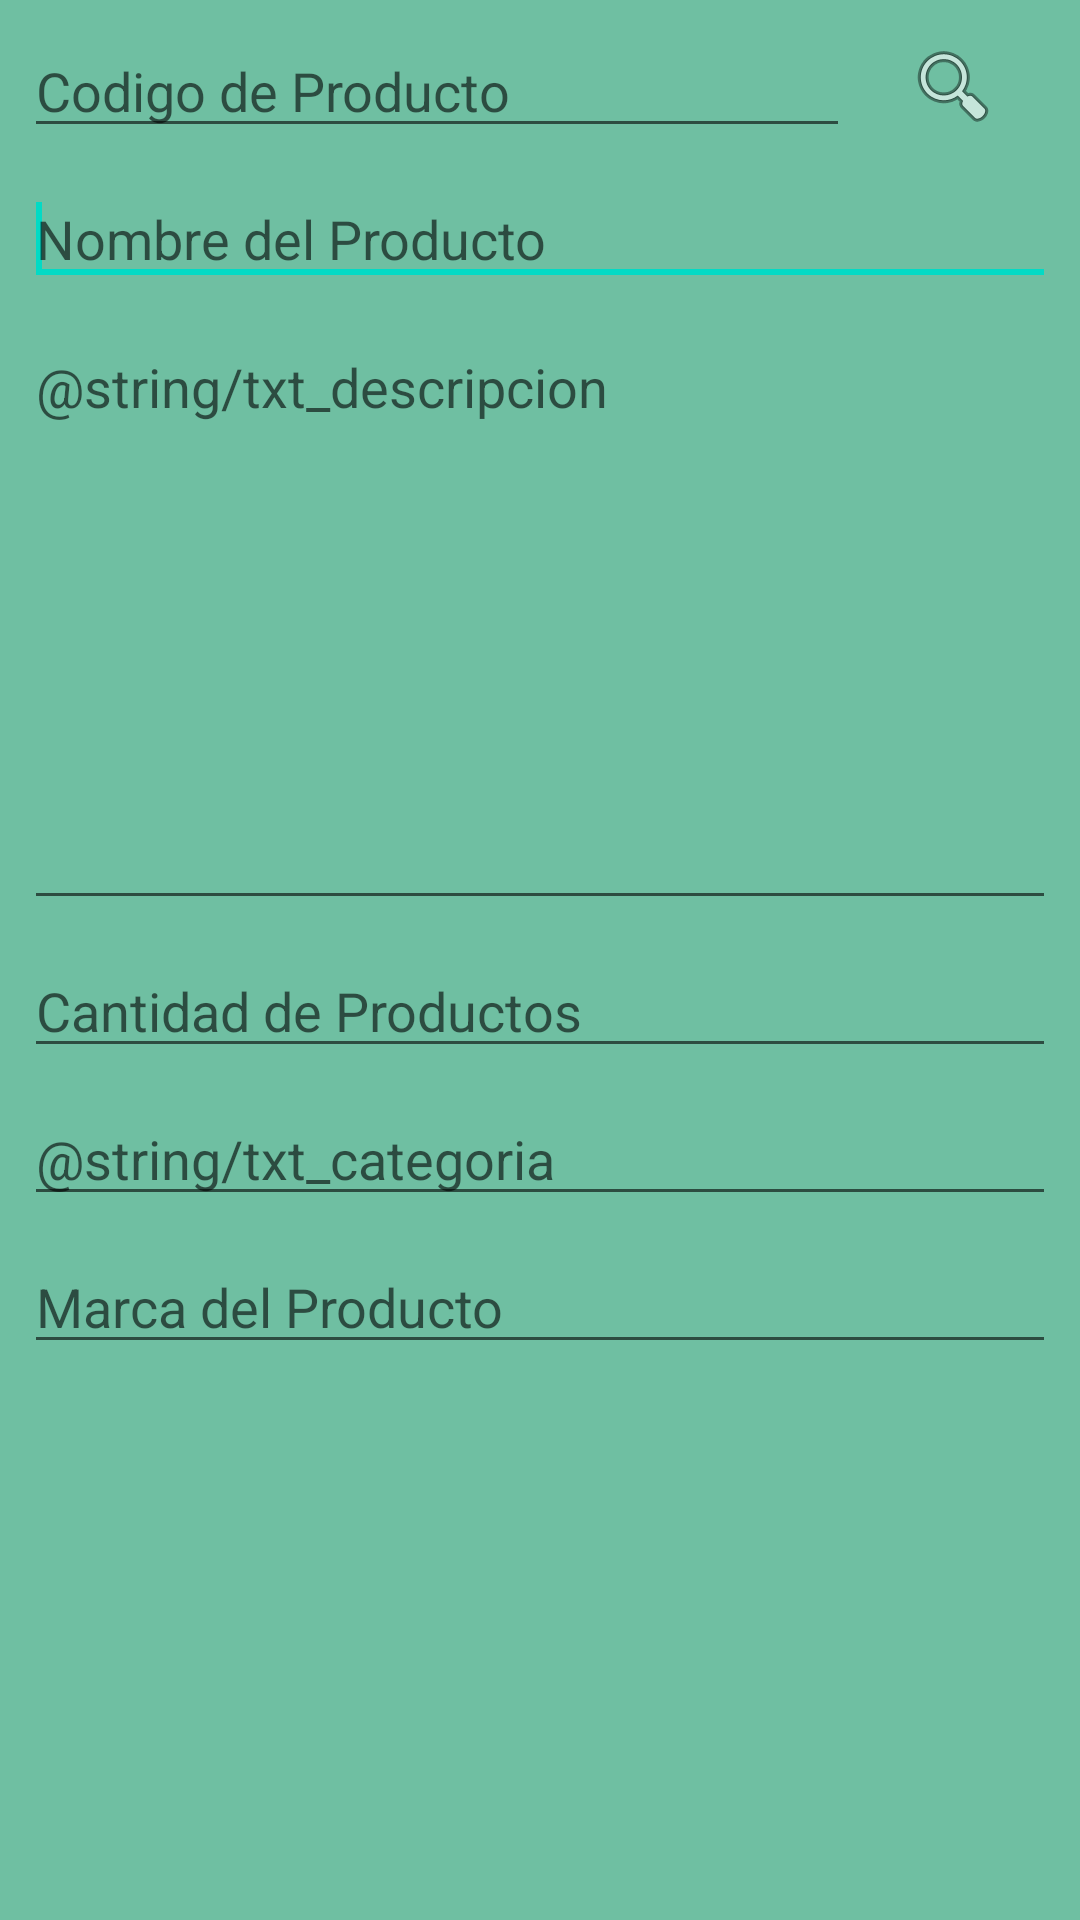

Locate icon controls on the screen. Image size 1080px x 1920px, boxes as rect(x1, y1, x2, y2).
search: rect(918, 51, 988, 122)
